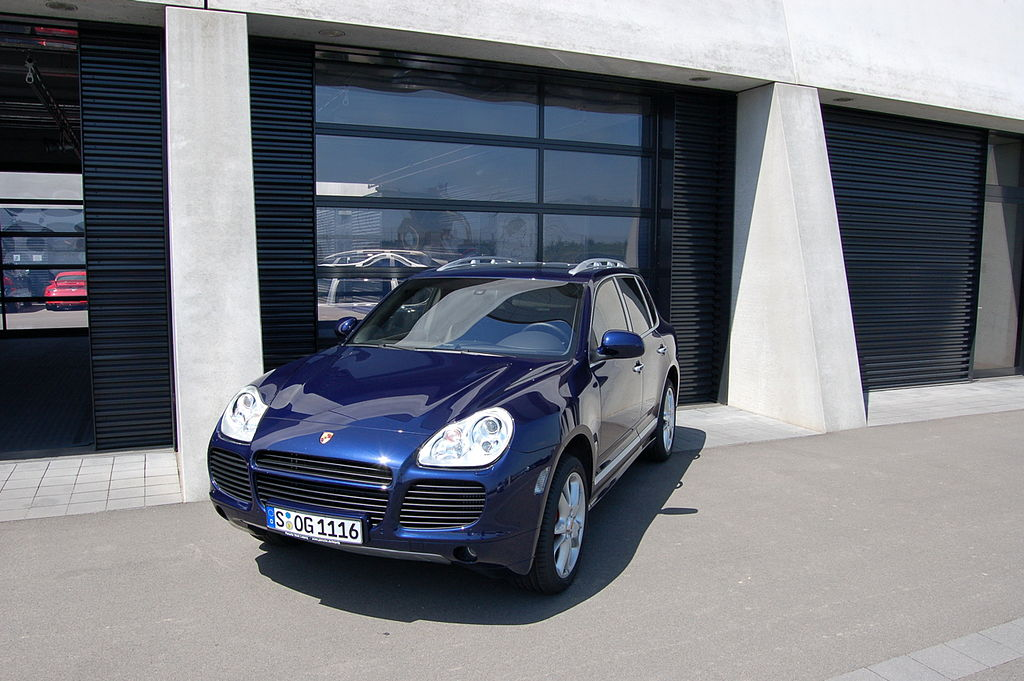plate: (264, 502, 364, 546)
